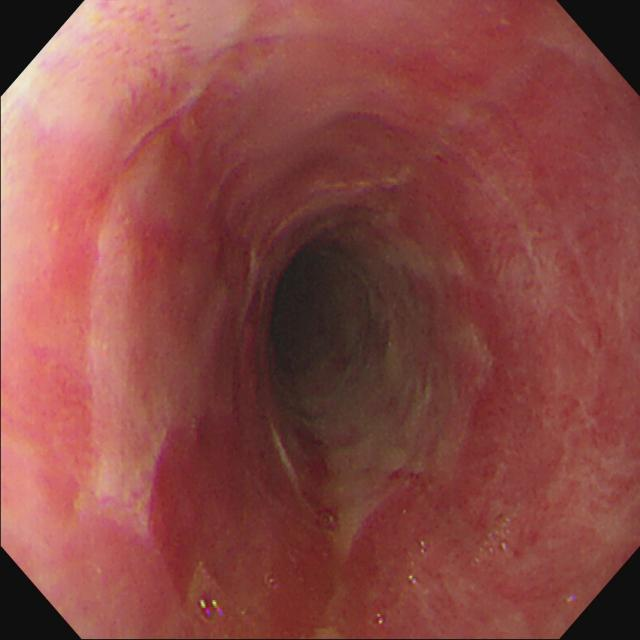A: (469, 325, 640, 640), (401, 100, 640, 323), (151, 413, 337, 640), (338, 468, 468, 640)
